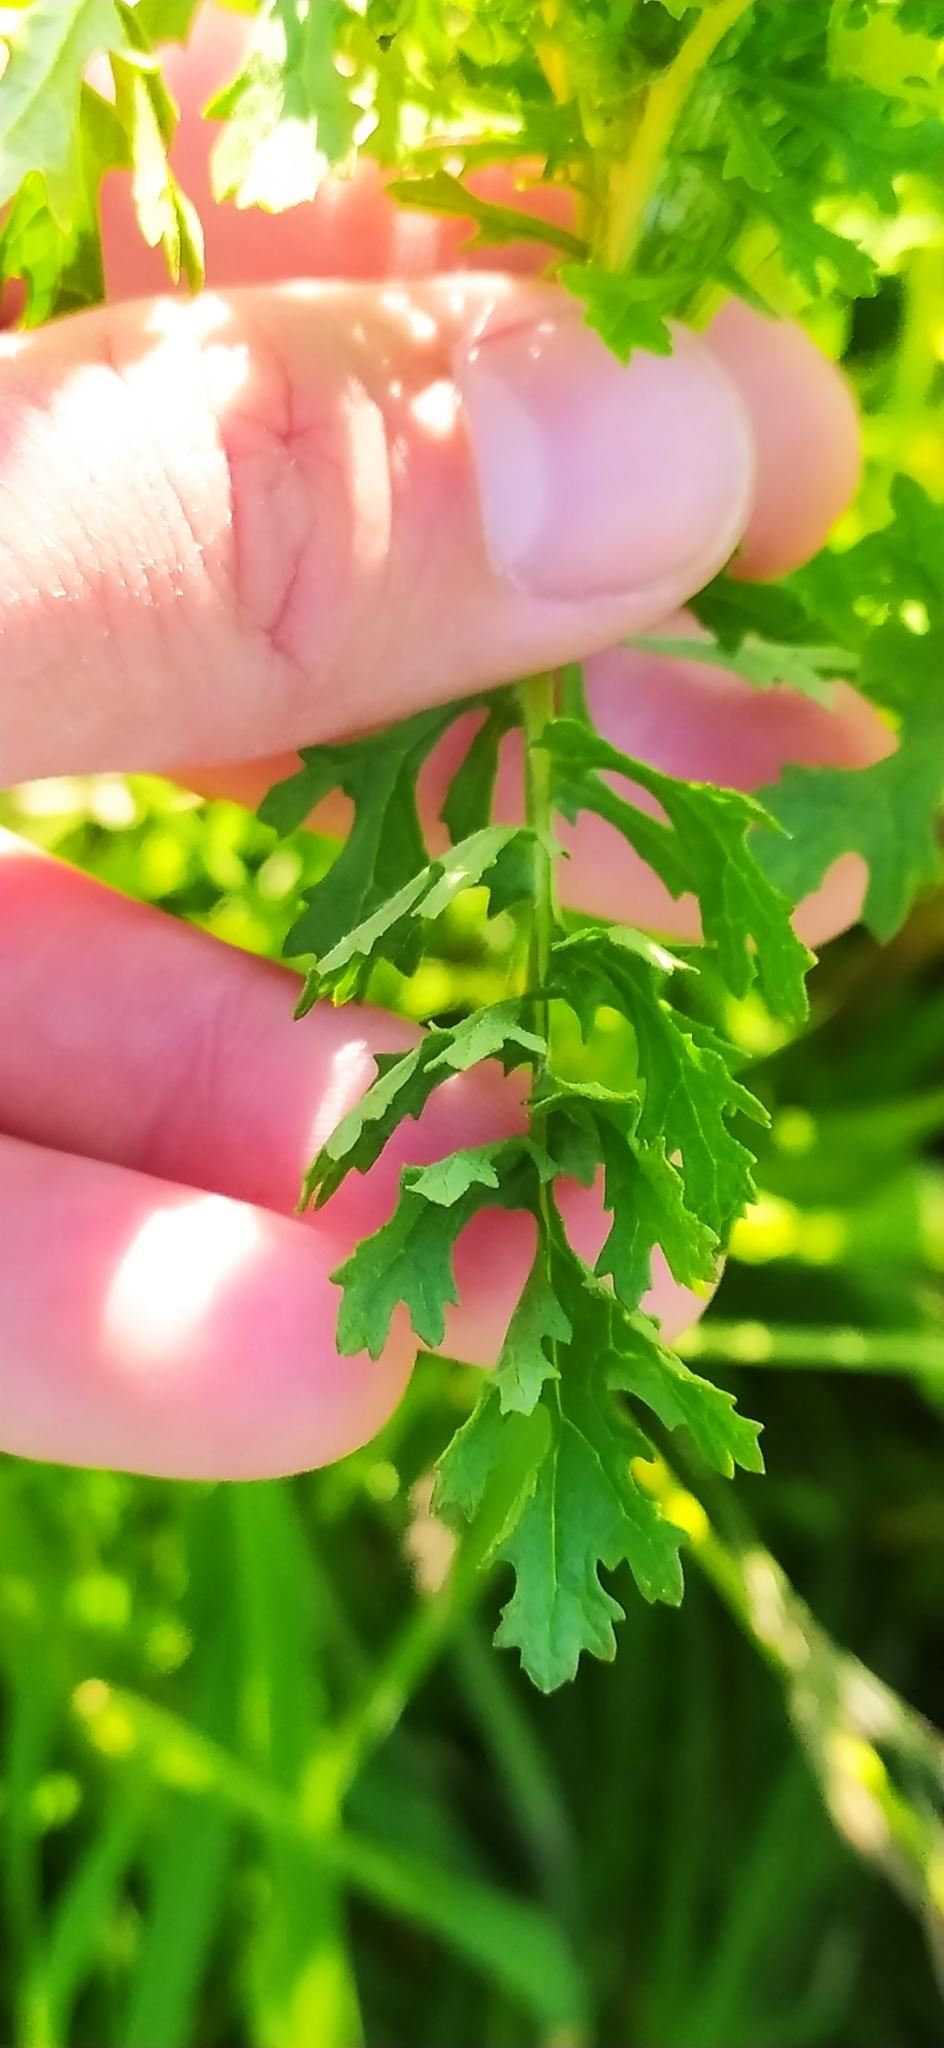Jacobaea vulgaris: (243, 630, 840, 1730)
